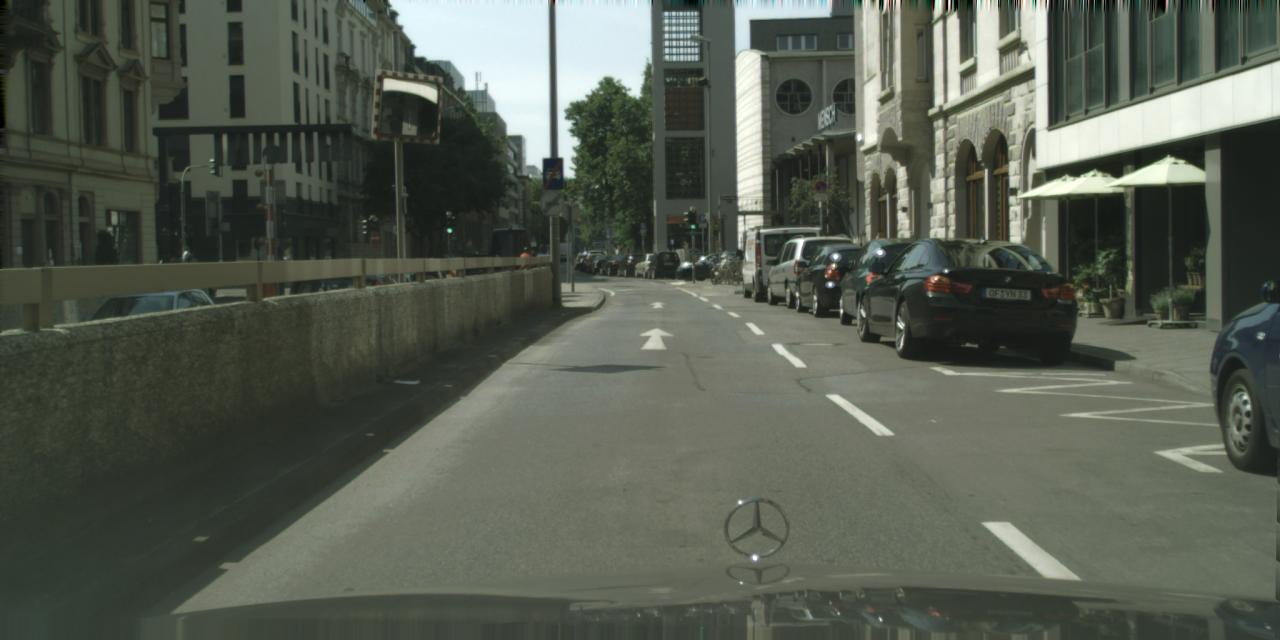ped: (178, 247, 195, 292), (516, 246, 532, 288)
